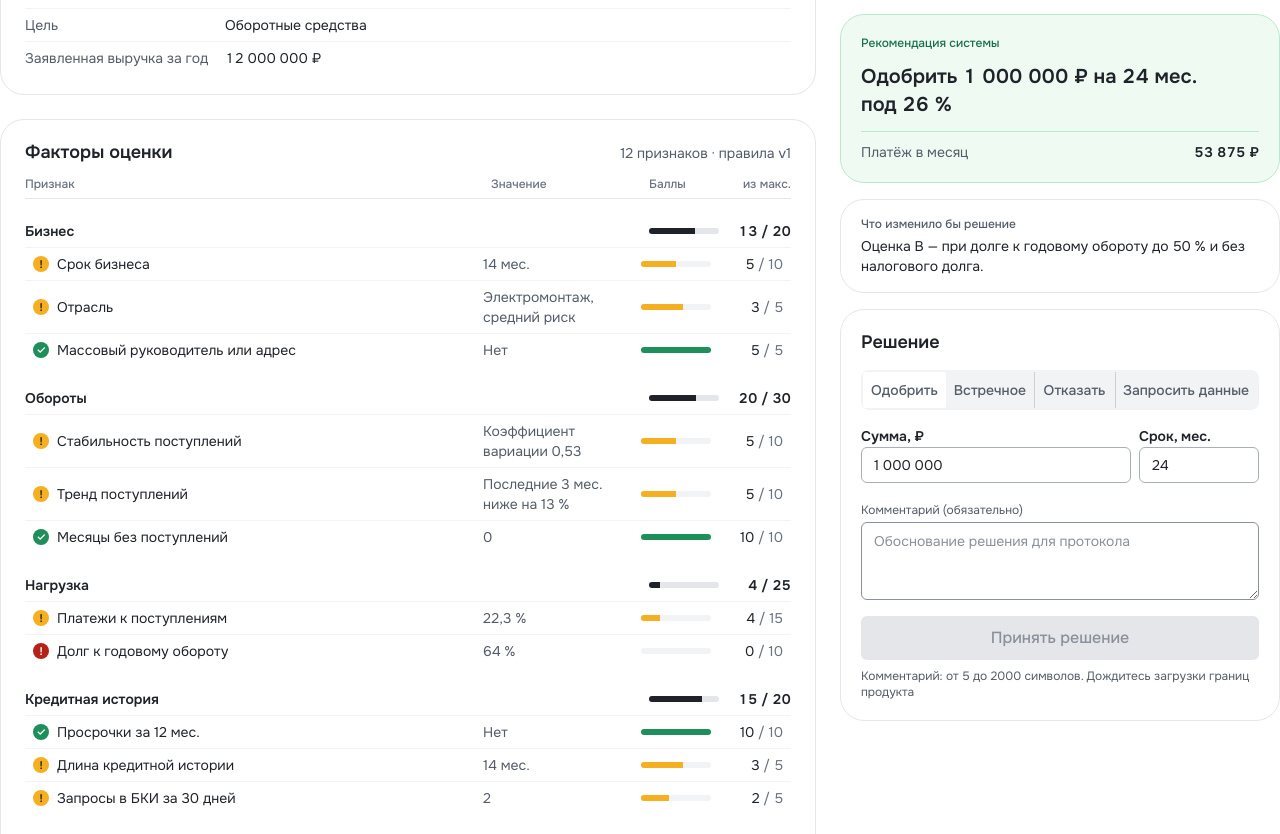
it: показывает период банковских оборотов без даты получения
The width and height of the screenshot is (1280, 834).
(page scrolled)
Expected: the heading "Факторы оценки" is shown, [25, 140, 172, 164]
Click the button "! Стабильность поступлений Коэффициент вариации 0,53 5 / 10" at (149, 441), box [25, 414, 791, 467]
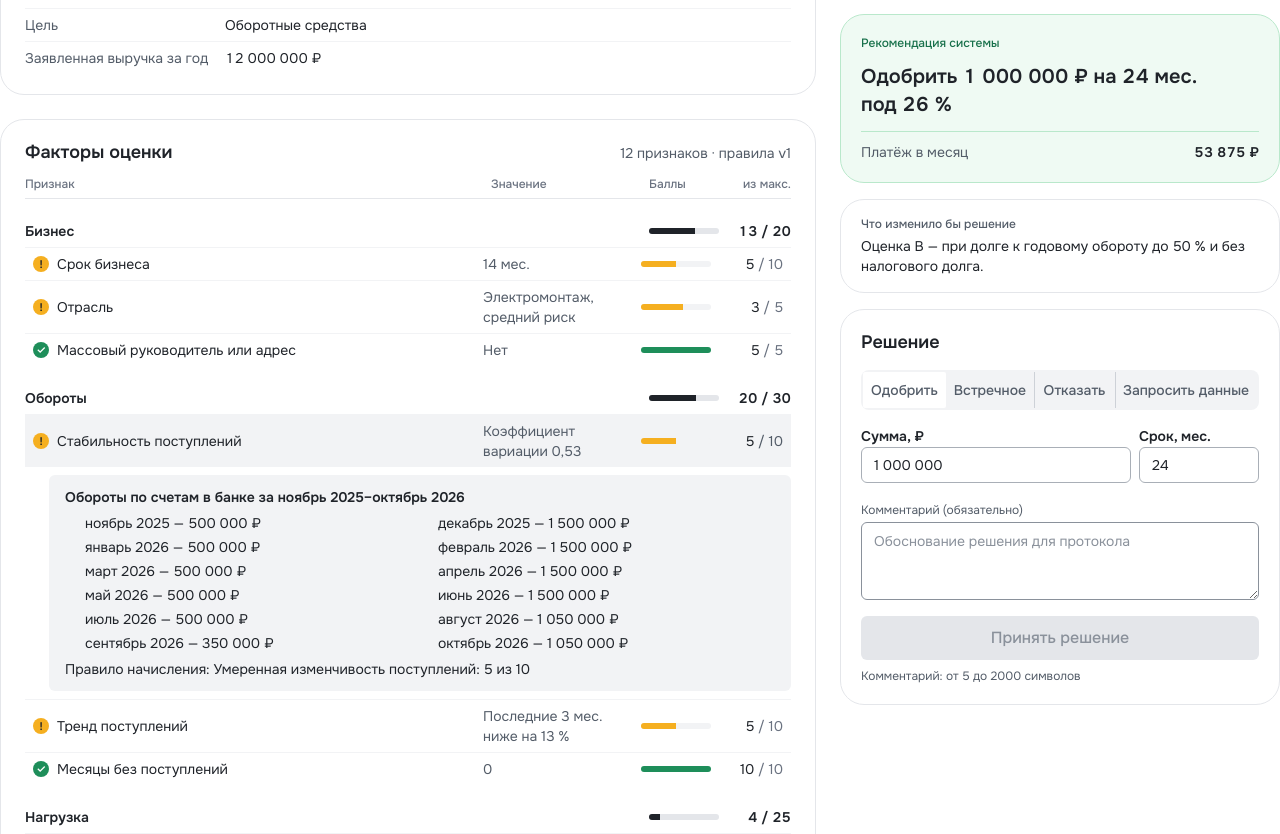
Expected: the text "Обороты по счетам в банке за ноябрь 2025–октябрь 2026" is shown, [65, 488, 465, 506]
